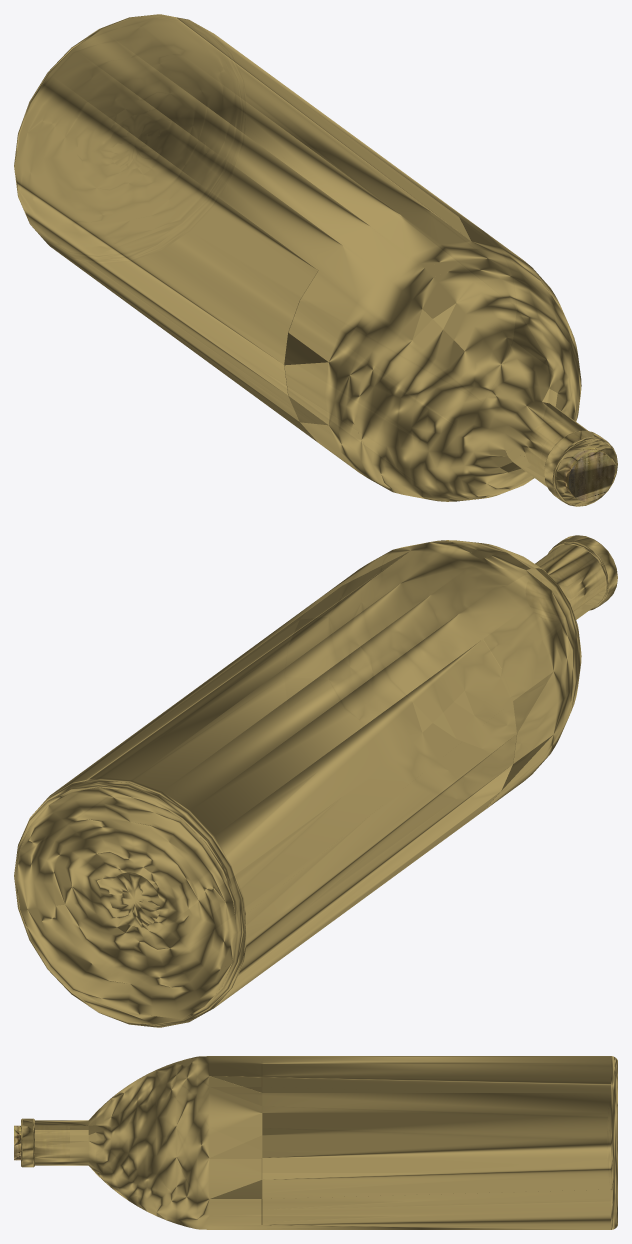
Rendered from model_align.obj.
The picture shows the model from 3 angles, top to bottom: view 1: azimuth 30°, elevation 25°; view 2: azimuth 150°, elevation 25°; view 3: azimuth 270°, elevation 25°; orthographic projection. The views are drawn at different scales.
Size of the model in its own units: 0.0421 by 0.0421 by 0.1457.
